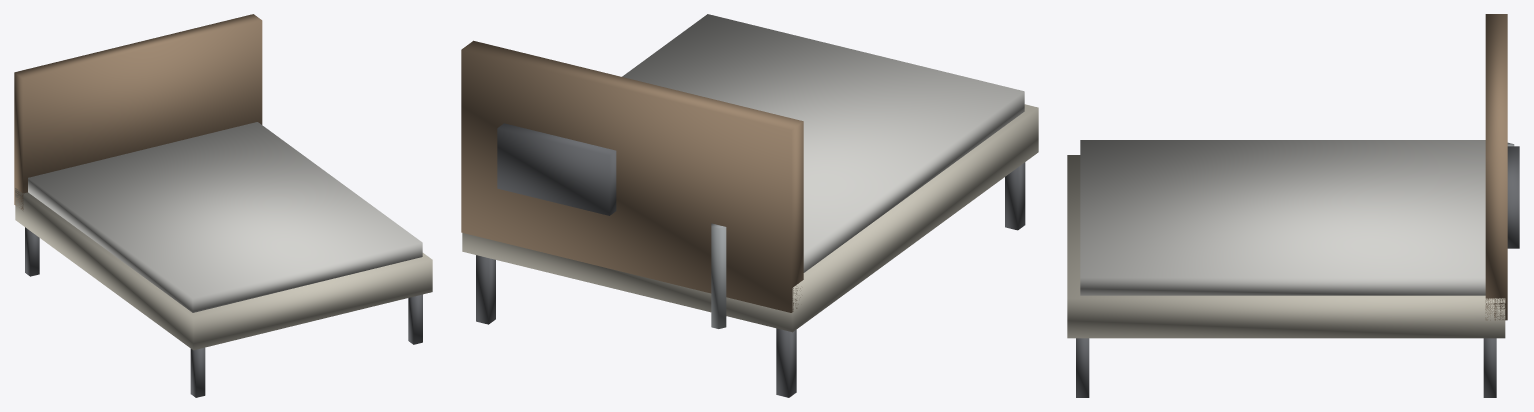
Rendered from double_bed__service.glb.
3 views of the same model, side by side, from view 1: azimuth 30°, elevation 25°; view 2: azimuth 150°, elevation 25°; view 3: azimuth 270°, elevation 25° (orthographic). The views are drawn at different scales.
Parts seen in each view (by area): view 1: world; view 2: world; view 3: world.
Part boxes in pixels (x1,y1,x2,y2): world: (14,14,432,397); world: (461,14,1038,397); world: (1067,14,1519,397).
Size of the model in its own units: 1.55 by 1.23 by 2.07.
